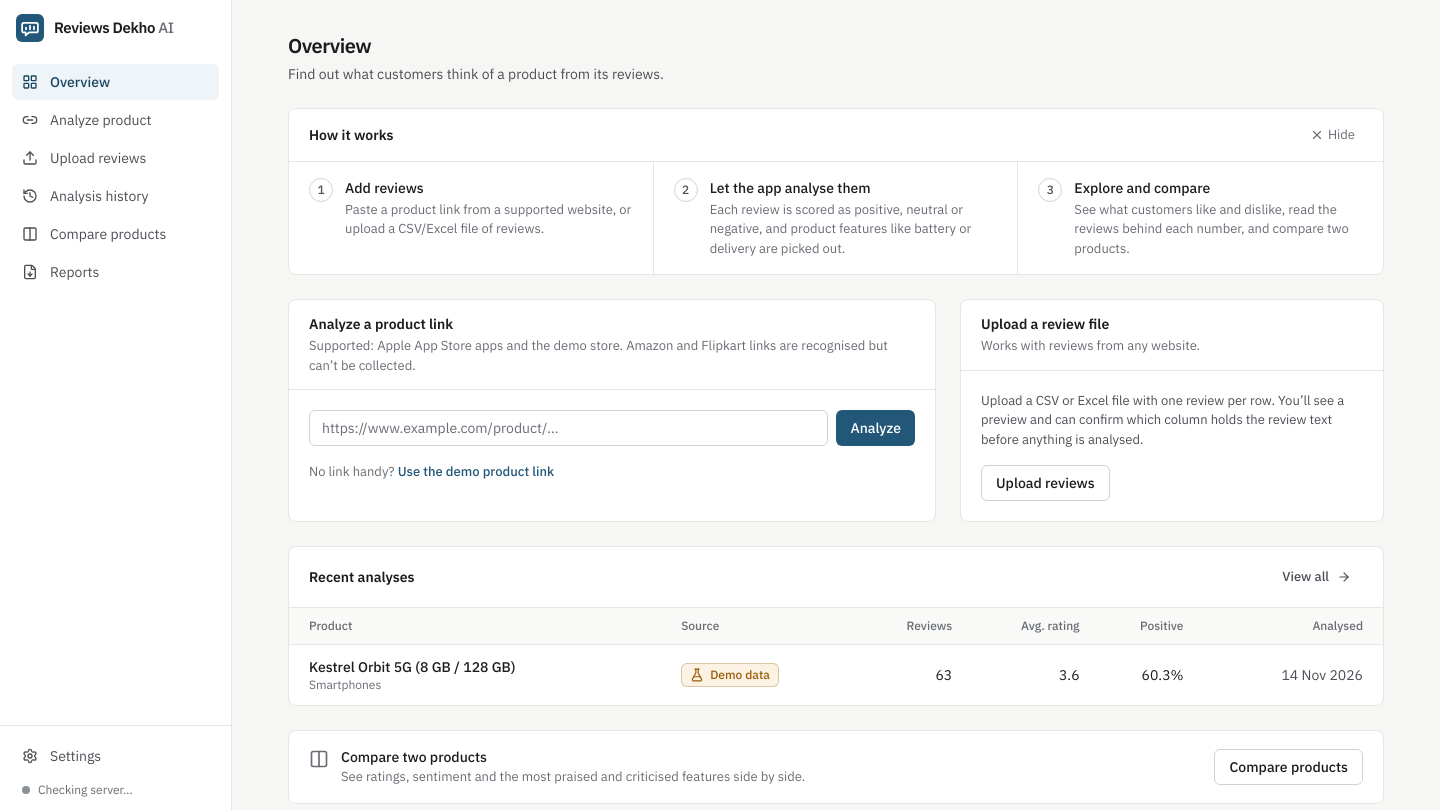
navigation › sidebar links move between pages
Click the link "Upload reviews" below "Analyze product".
click(84, 158)  # box [22,149,146,167]
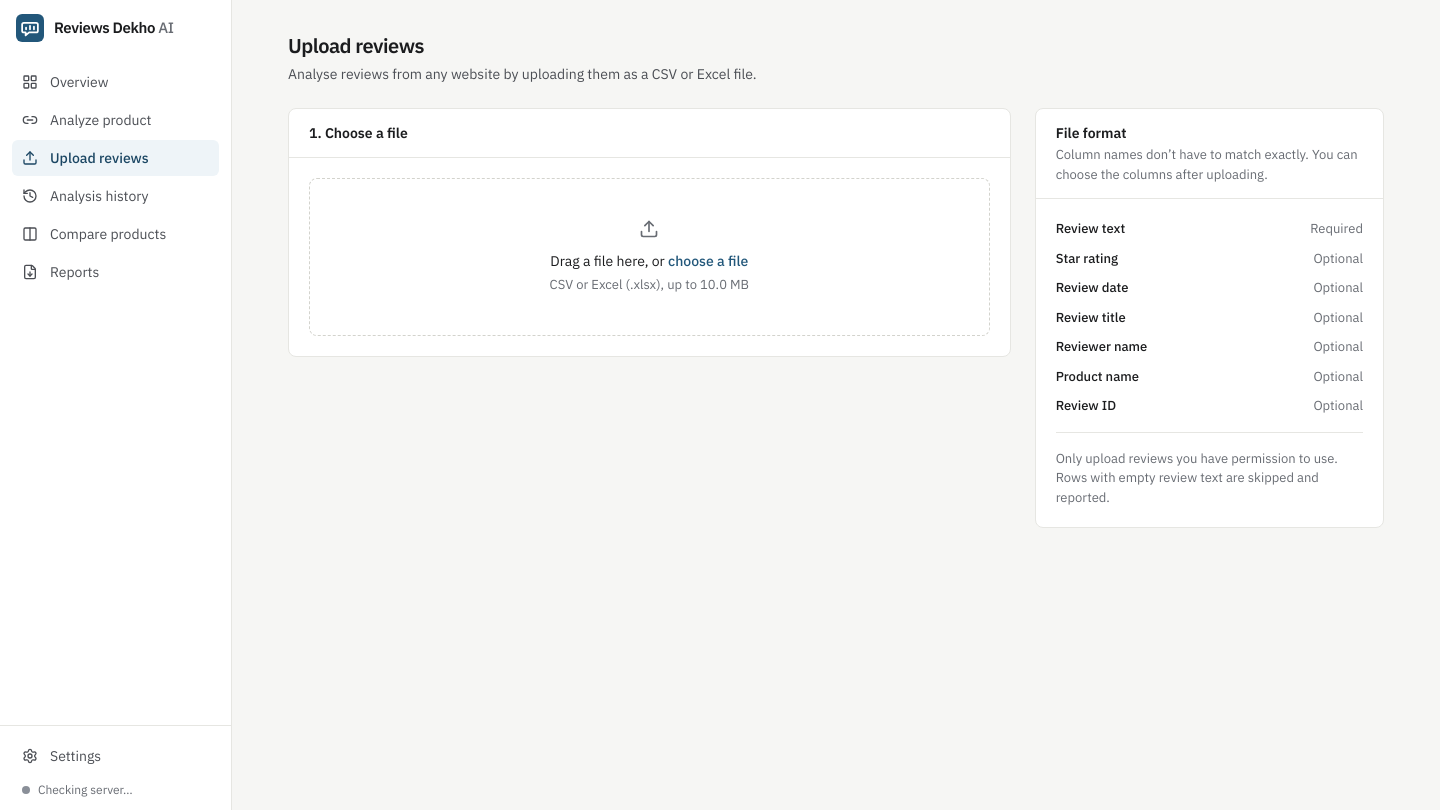
Result: the heading "Upload reviews" is shown at [288,32,424,59]
Click the link "Analysis history".
click(85, 196)  # box [22,187,149,205]
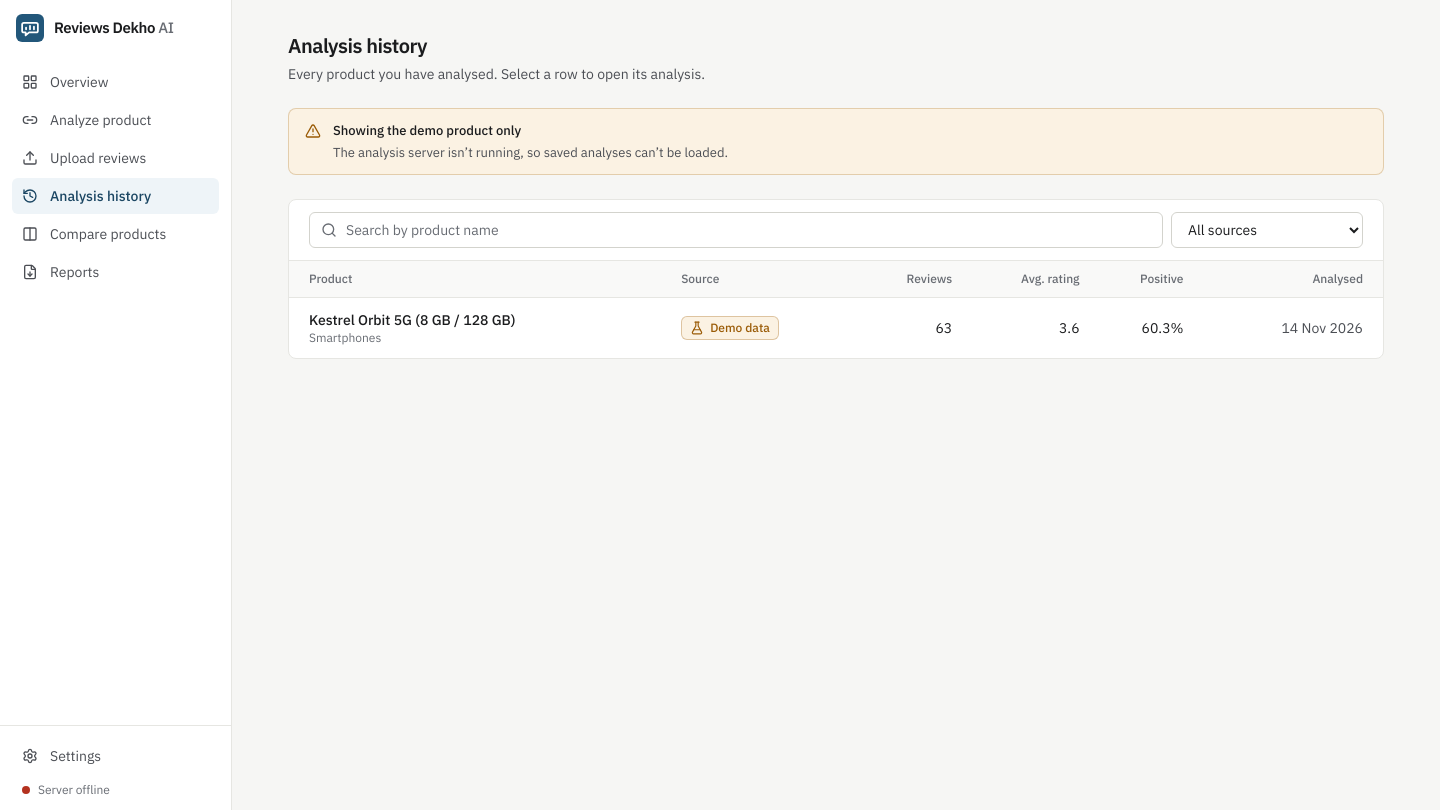
Result: the heading "Analysis history" is shown at [288,32,427,59]
